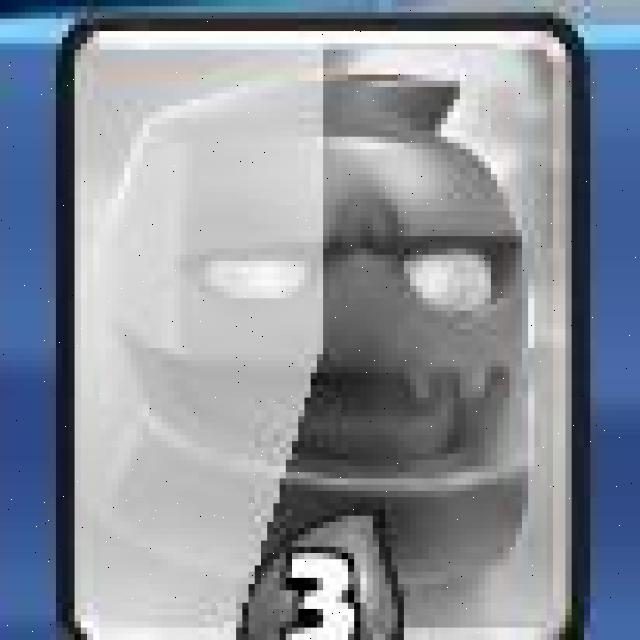Elixir_Golem: (55, 17, 588, 640)
